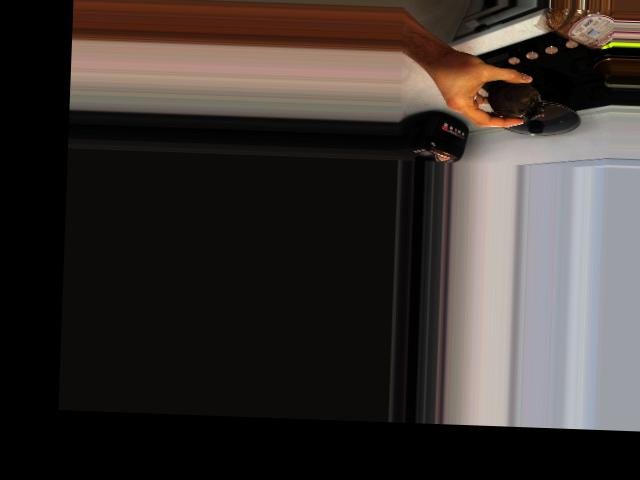beet: (484, 81, 546, 119)
